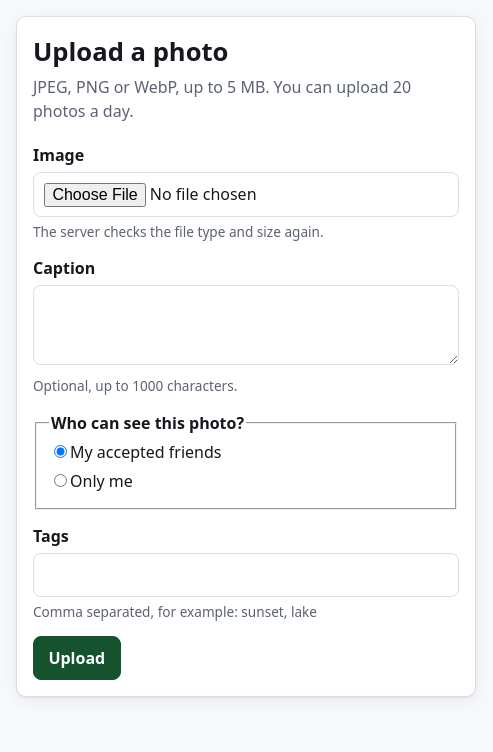
UploadPage › shows the server error instead of a success state
Earlier steps of the test are not shown.
Click the button "Upload". click: (77, 658)
box: x1=33 y1=636 x2=121 y2=680
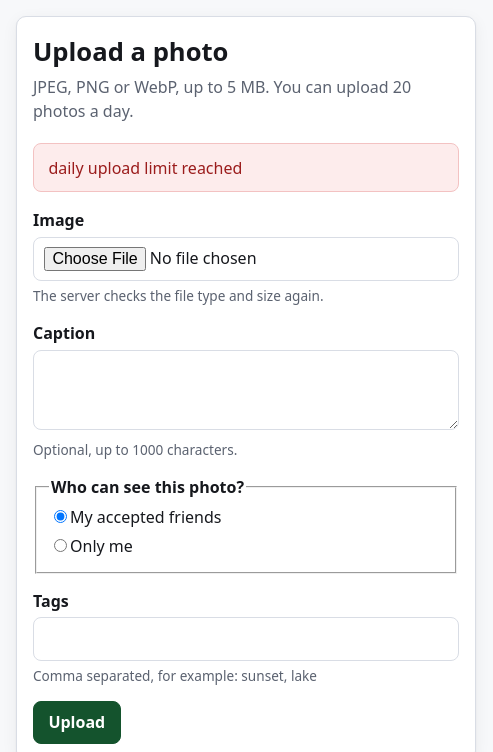
Check: the text "daily upload limit reached" is shown, box x1=48 y1=156 x2=242 y2=180
